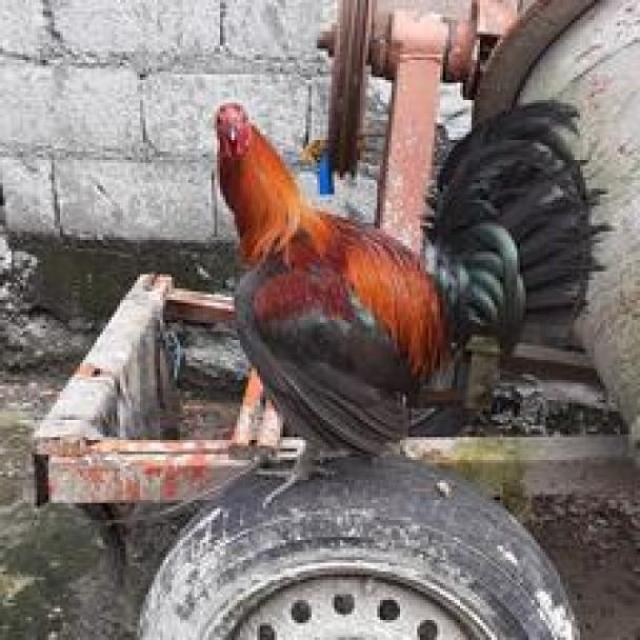Chicken: (176, 80, 612, 520)
